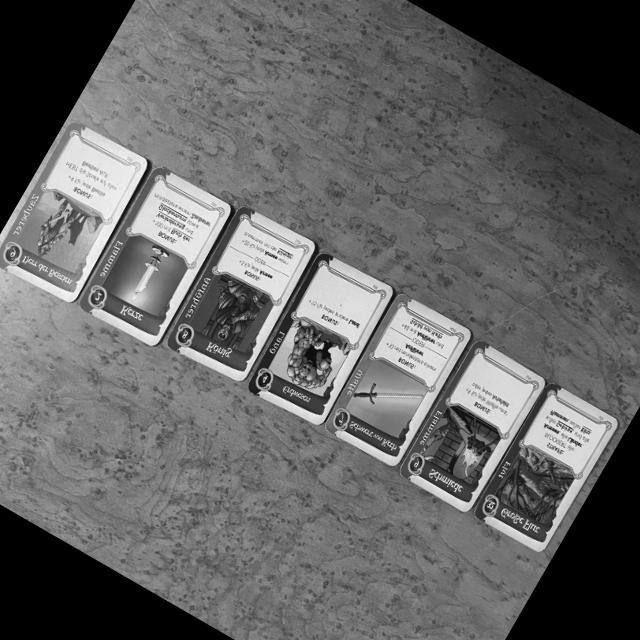Beast Master: (0, 121, 151, 306)
Candle: (75, 164, 233, 352)
Earth Elemental: (244, 249, 396, 428)
Forge: (395, 337, 547, 515)
Great Flood: (470, 377, 623, 559)
King: (162, 203, 316, 384)
Sword of Keth: (326, 288, 475, 471)
